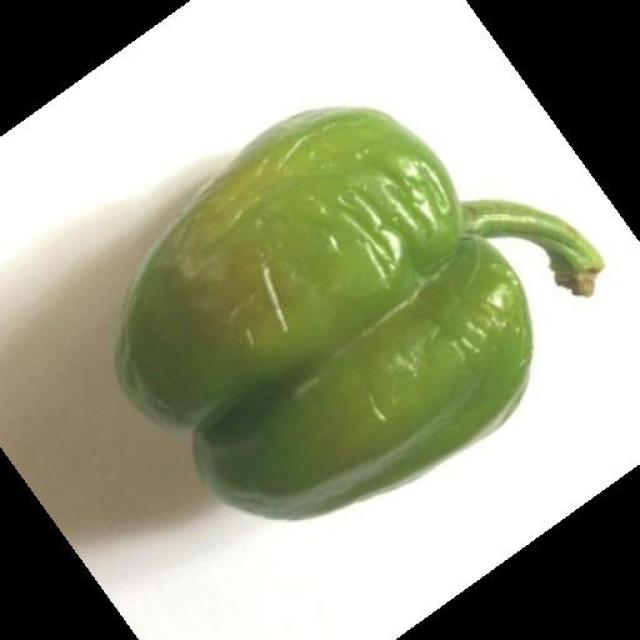Stale_Capsicum: (99, 138, 591, 466)
